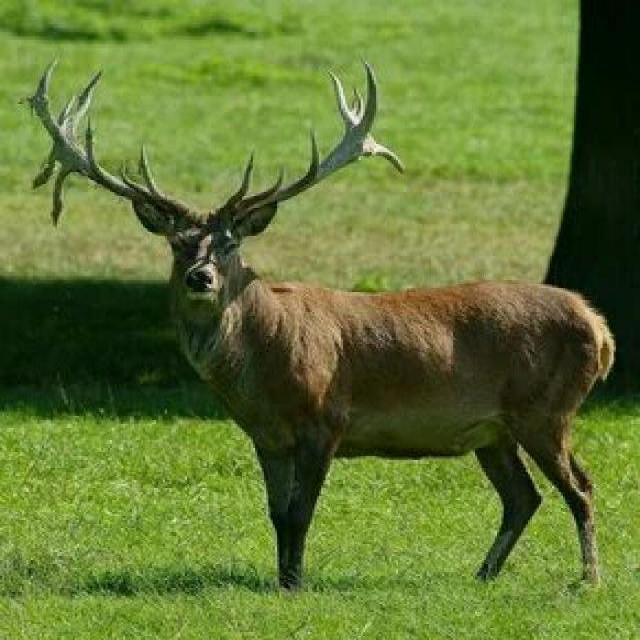deer: (94, 126, 640, 565)
